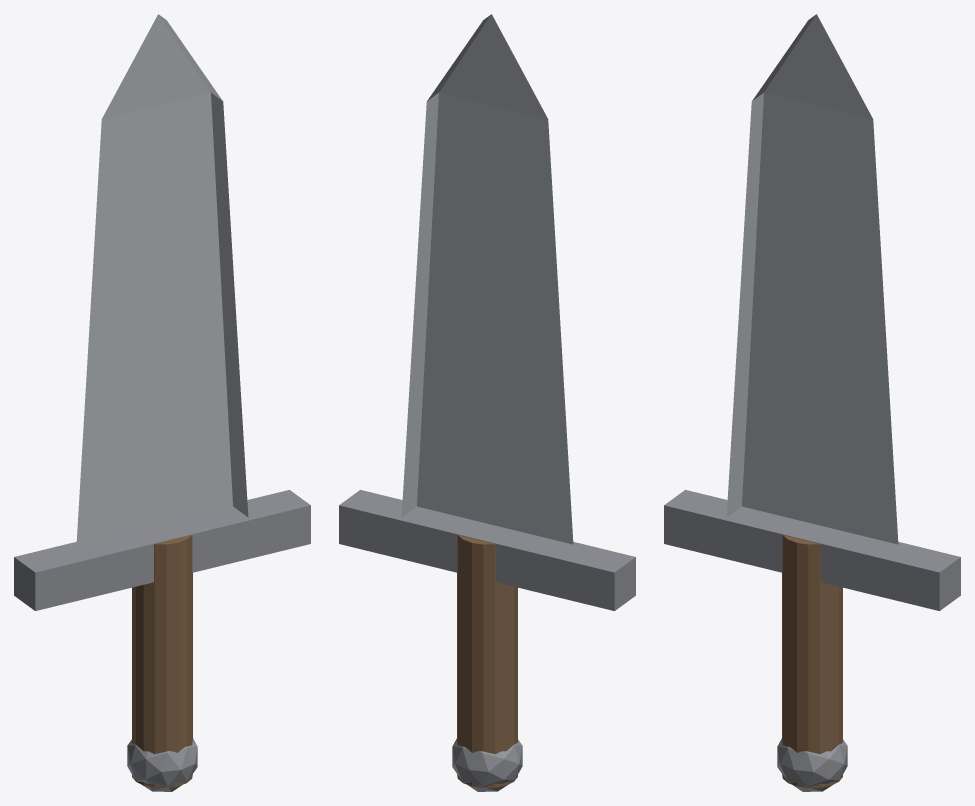
File: cracked_broadsword.glb
3 views of the same model, side by side, from view 1: azimuth 30°, elevation 25°; view 2: azimuth 150°, elevation 25°; view 3: azimuth 330°, elevation 25° (orthographic).
Visible parts, largest first — view 1: sword_0_0, sword_0_1, sword_0_2, sword_0_3; view 2: sword_0_0, sword_0_1, sword_0_2, sword_0_3; view 3: sword_0_0, sword_0_1, sword_0_2, sword_0_3.
Boxes of the visible parts, x1,y1,x2,y2 form: sword_0_0: (76, 14, 248, 544); sword_0_1: (14, 490, 310, 610); sword_0_2: (132, 535, 192, 787); sword_0_3: (127, 738, 197, 791); sword_0_0: (401, 14, 573, 544); sword_0_1: (339, 490, 635, 610); sword_0_2: (457, 535, 517, 787); sword_0_3: (452, 738, 522, 791); sword_0_0: (726, 14, 898, 544); sword_0_1: (664, 490, 960, 610); sword_0_2: (782, 535, 842, 787); sword_0_3: (777, 738, 847, 791).
Bounding box in the file's own units: 1.34 × 3.6 × 0.312.
